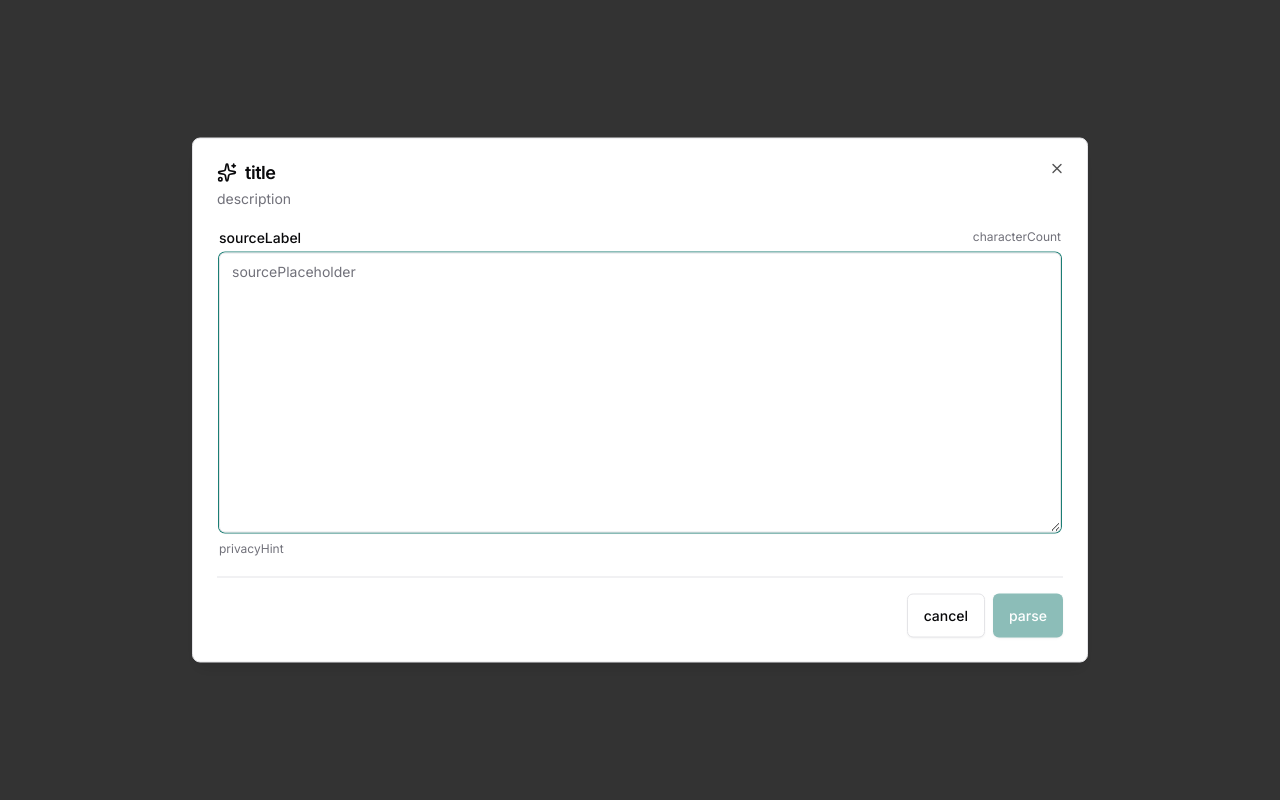
Scenario: ItineraryImportDialog › keeps failed source text editable and focuses it when opened
The image size is (1280, 800).
Type "Day 1 Tokyo" into the text box labelled "sourceLabel".
click(640, 392); type("Day 1 Tokyo")  # box [219,252,1061,532]
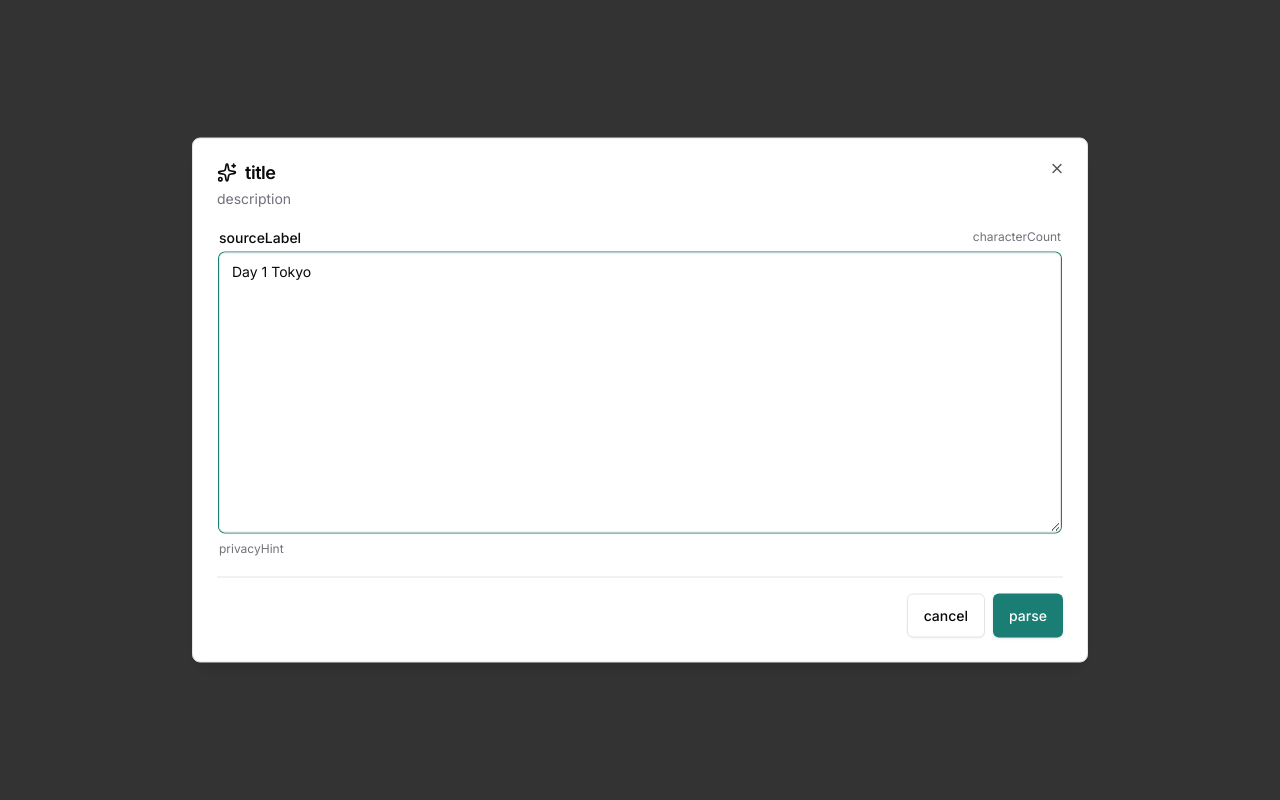
Click the button "parse".
click(1028, 616)  # box [993,594,1063,638]
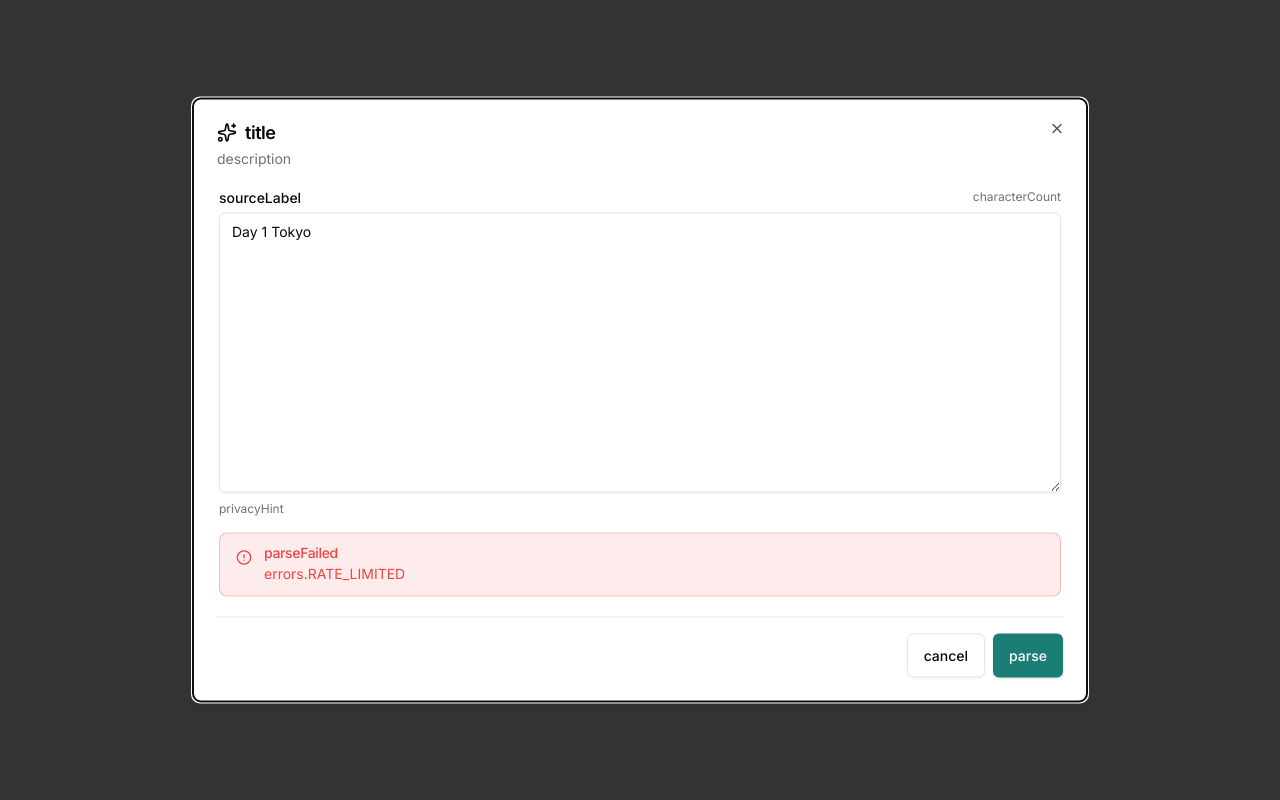
Result: the text "errors.RATE_LIMITED" is shown at [264,564,405,582]
